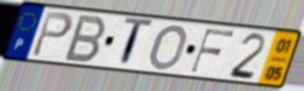2: (227, 31, 268, 82)
B: (61, 13, 108, 64)
F: (188, 27, 237, 75)
O: (147, 23, 190, 72)
P: (29, 9, 75, 59)
T: (119, 16, 156, 70)
